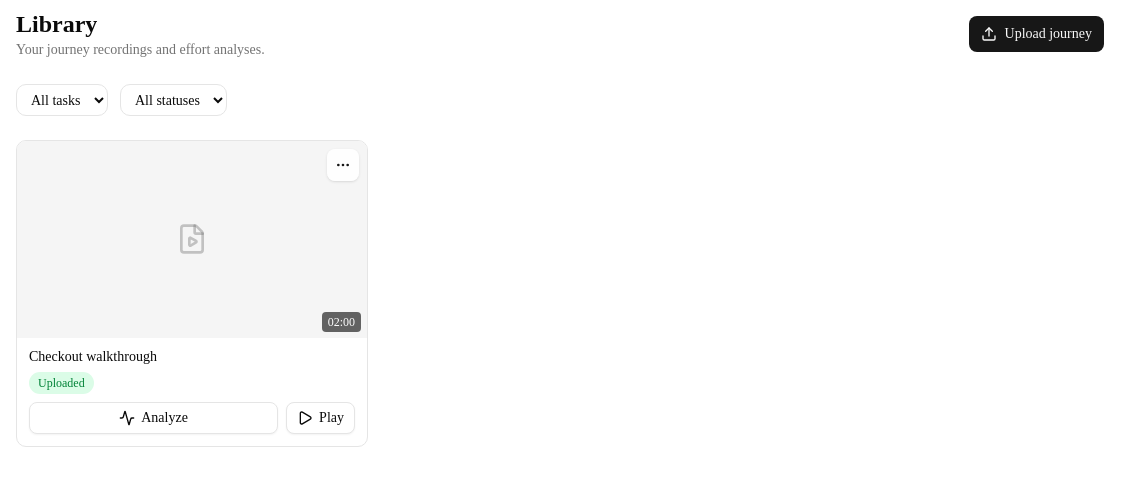
Test: analyzing from the library › keeps a failed run on screen with Retry and Dismiss, and explains why
The width and height of the screenshot is (1121, 492).
Click the button "Analyze" at (154, 418), box [29,402,278,434]
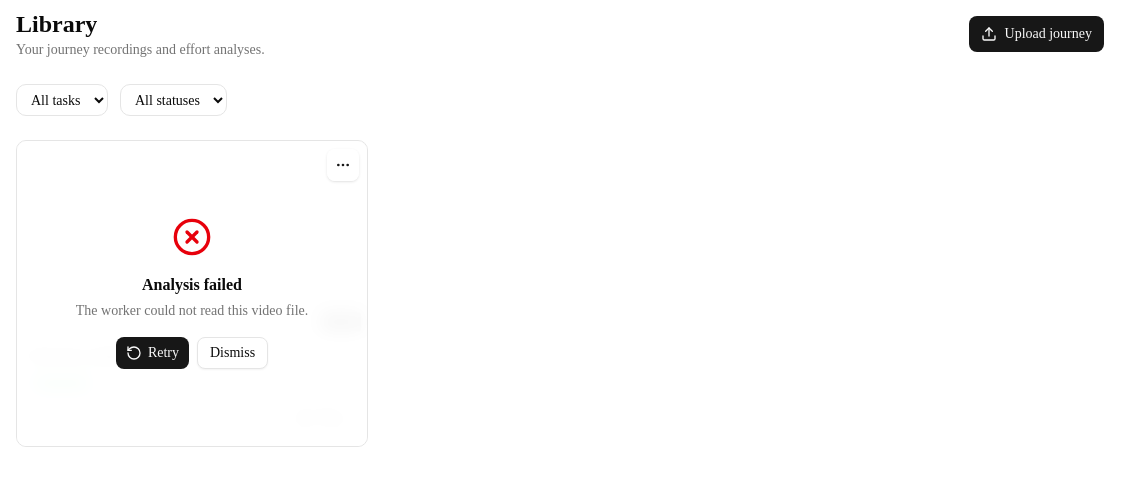
Check: the text "The worker could not read this video file." is shown, box [76,301,308,321]
Check: the button "Retry" is shown, box [116,337,189,369]
Click the button "Dismiss" at (233, 353), box [197,337,268,369]
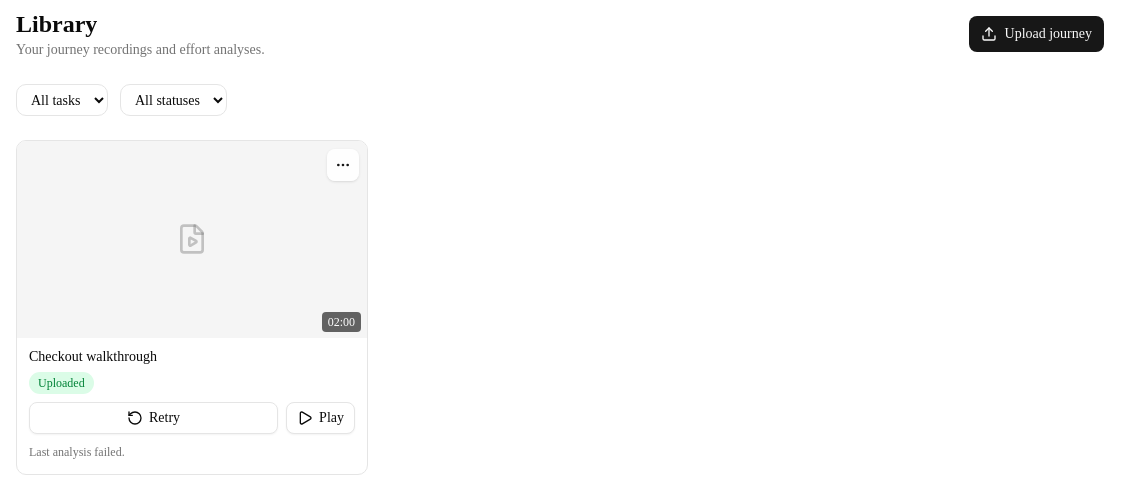
Check: the message with test id "analysis-overlay" is gone
